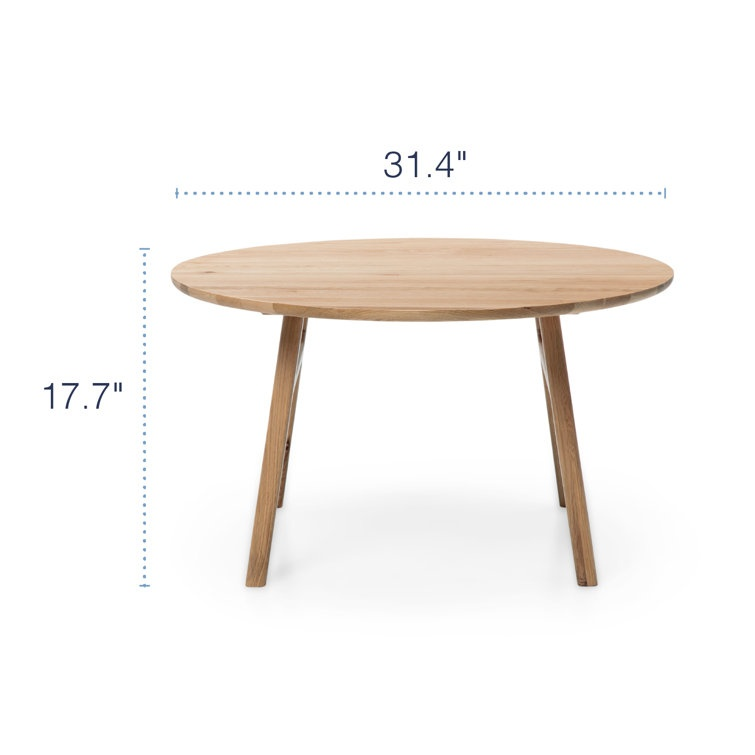obstacle: (172, 238, 672, 586)
